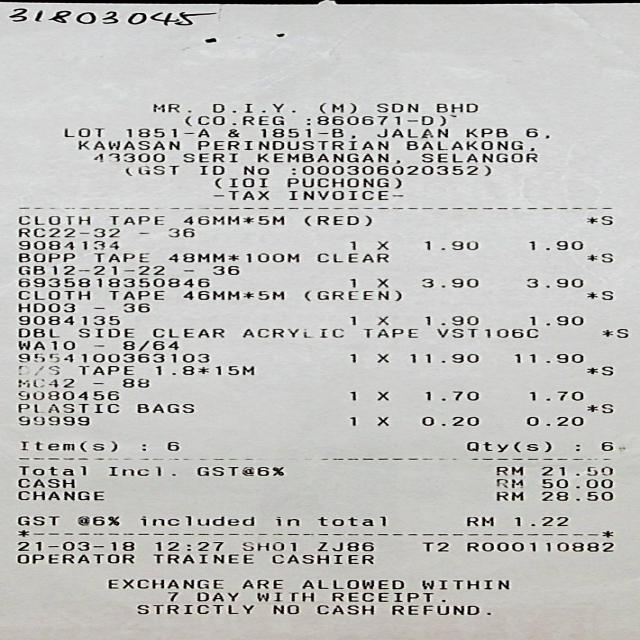text: (290, 164, 488, 175), (196, 140, 386, 149), (18, 353, 207, 362), (18, 278, 207, 286), (304, 115, 453, 125), (466, 541, 612, 551), (256, 153, 398, 163), (17, 265, 163, 274), (167, 252, 297, 262), (404, 140, 532, 150), (16, 540, 133, 550), (138, 515, 251, 525), (286, 178, 398, 188), (15, 554, 132, 563), (419, 153, 535, 162), (107, 579, 222, 588), (137, 604, 252, 613), (330, 592, 442, 601), (76, 139, 176, 149), (286, 190, 386, 200), (182, 290, 282, 300), (17, 390, 116, 400), (389, 604, 488, 614), (303, 290, 398, 300), (19, 441, 114, 451), (269, 554, 372, 563), (260, 128, 352, 138), (434, 328, 536, 337), (150, 554, 252, 563), (240, 328, 340, 337), (17, 240, 116, 249), (153, 365, 252, 374), (195, 466, 283, 476), (184, 116, 281, 125), (15, 490, 102, 500), (464, 441, 549, 451), (16, 228, 117, 236), (16, 316, 117, 324), (182, 216, 282, 224), (301, 580, 401, 588), (17, 404, 116, 412), (212, 103, 294, 112), (91, 152, 162, 162), (540, 478, 610, 488), (17, 466, 85, 476), (422, 580, 507, 588), (124, 128, 206, 136), (304, 215, 369, 225), (314, 253, 386, 262), (150, 328, 222, 337), (539, 466, 610, 475), (539, 491, 610, 500), (376, 128, 445, 137), (18, 290, 87, 299), (408, 353, 477, 362), (152, 541, 221, 550), (513, 353, 580, 362), (317, 516, 384, 525), (124, 164, 178, 175), (314, 604, 372, 614), (120, 340, 176, 350), (524, 416, 580, 426), (18, 216, 87, 224), (18, 416, 87, 424), (528, 240, 582, 250), (18, 302, 72, 312), (528, 390, 582, 400), (422, 416, 476, 426), (182, 152, 235, 162), (424, 240, 477, 250), (424, 390, 477, 400), (108, 466, 161, 476), (314, 541, 372, 550), (213, 178, 265, 188), (16, 478, 73, 487), (106, 290, 162, 299), (255, 592, 311, 601), (77, 328, 132, 337), (77, 365, 132, 374), (94, 252, 148, 261), (18, 252, 72, 261), (362, 328, 416, 337), (18, 340, 72, 349), (512, 516, 566, 525), (240, 541, 294, 550), (18, 378, 71, 387), (421, 278, 477, 286), (524, 278, 580, 286), (135, 404, 191, 412), (108, 216, 162, 224), (528, 316, 582, 324), (15, 515, 58, 525), (424, 316, 477, 324), (76, 515, 118, 525), (318, 102, 354, 113), (225, 190, 268, 199), (374, 102, 416, 111), (16, 328, 57, 337), (435, 102, 475, 111), (197, 592, 237, 601), (464, 128, 505, 136), (16, 365, 57, 373), (241, 580, 280, 588), (64, 128, 102, 136), (152, 103, 188, 111), (584, 290, 610, 300), (122, 302, 148, 312), (420, 541, 446, 551), (242, 165, 268, 174), (600, 328, 626, 337), (120, 378, 146, 387), (494, 466, 520, 475), (494, 478, 520, 487), (272, 604, 298, 613), (587, 252, 610, 262), (198, 165, 223, 174), (466, 516, 491, 525), (524, 128, 546, 138), (273, 516, 297, 525), (166, 228, 192, 236), (584, 366, 610, 374), (213, 266, 237, 274), (587, 216, 610, 224), (587, 404, 610, 412), (496, 492, 522, 499), (376, 315, 389, 325), (376, 416, 389, 426), (166, 441, 179, 451), (375, 391, 389, 400), (376, 240, 388, 250), (376, 278, 388, 288), (376, 353, 388, 363), (166, 591, 176, 601), (226, 128, 238, 136), (600, 442, 610, 451), (347, 416, 355, 426), (349, 390, 356, 400), (349, 241, 357, 249), (349, 278, 356, 287), (349, 353, 356, 362), (349, 316, 356, 324)
